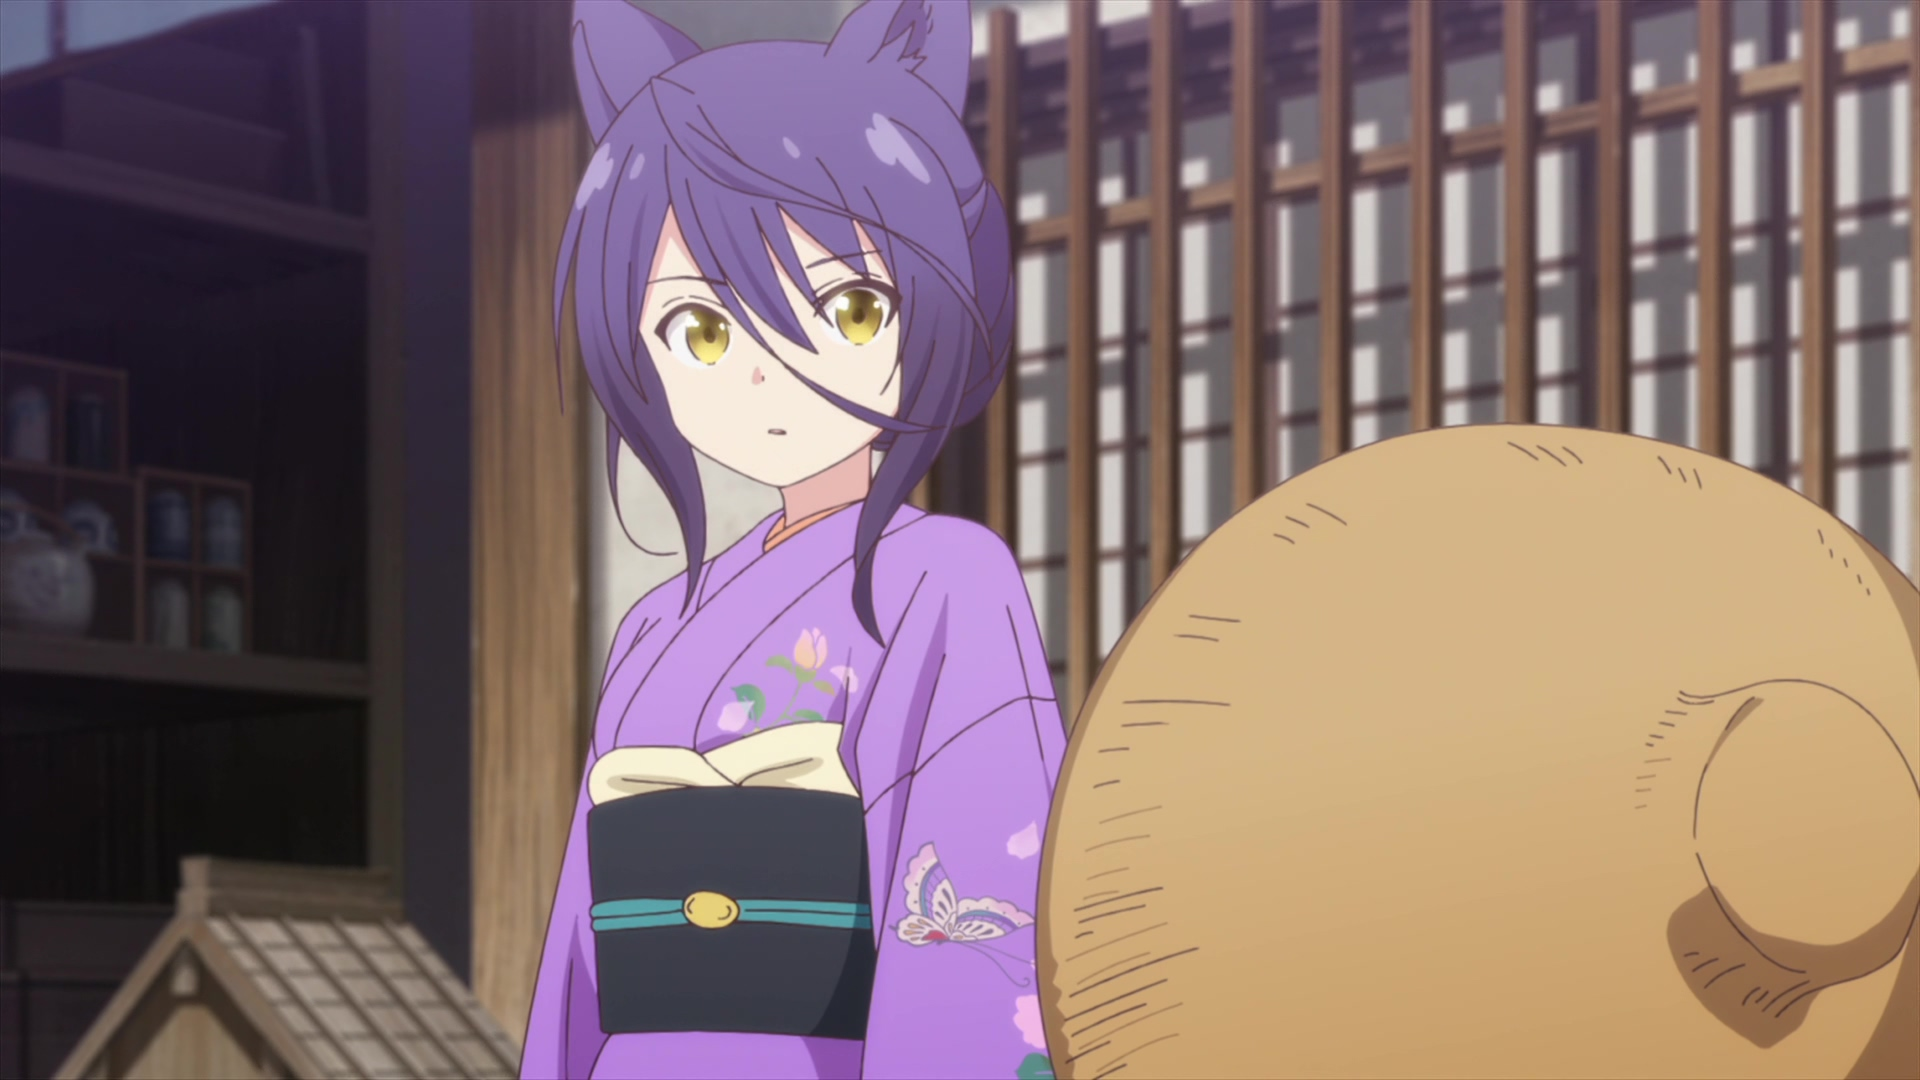其他: (1036, 423, 1920, 1080)
皋: (512, 1, 1069, 1080)
